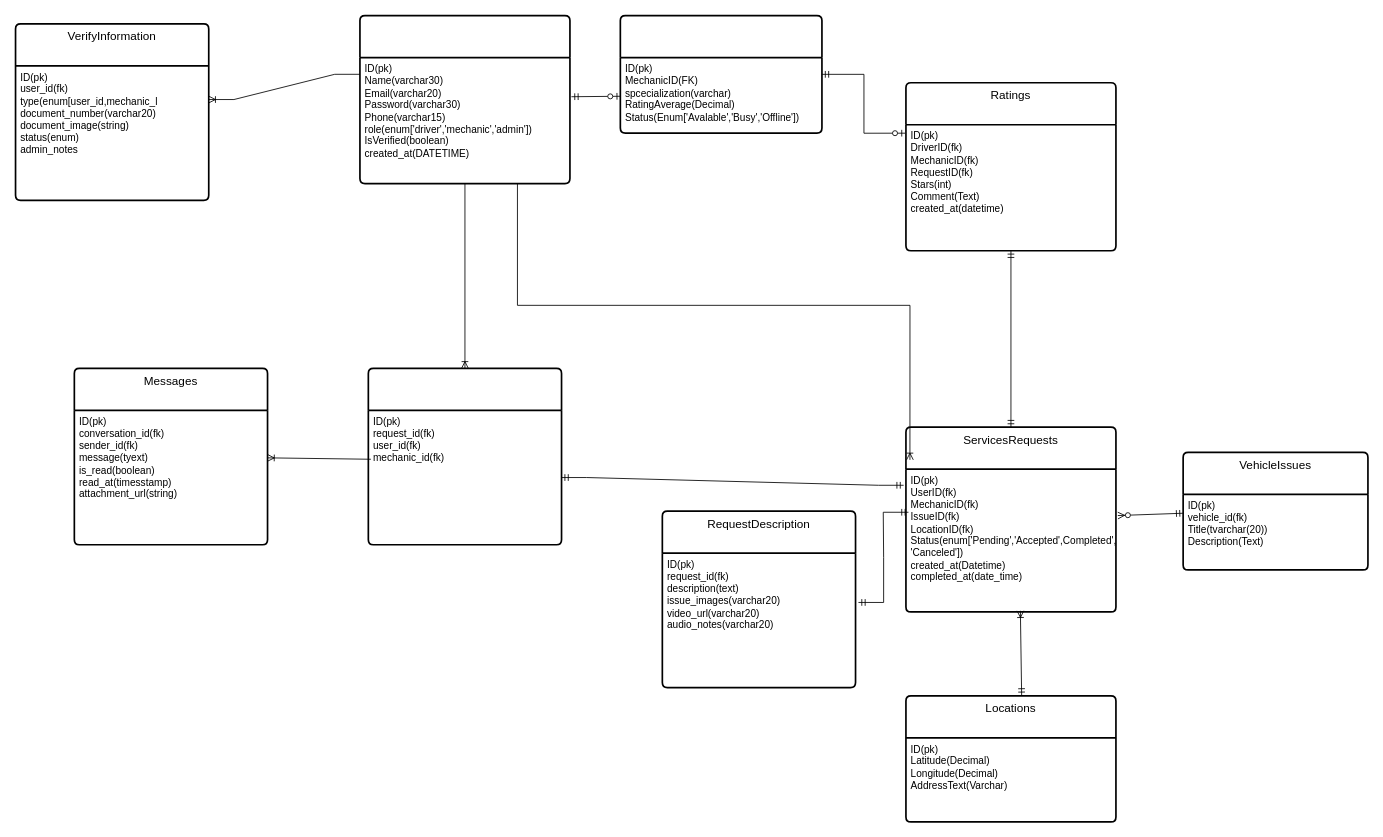
Image size: 1383x837. Some labels were removed from this diagram. Each missing label, with the box of its shape:
Conversation: (367, 367, 562, 545)
MechanicsInfos: (619, 14, 822, 134)
Users: (359, 14, 570, 184)
